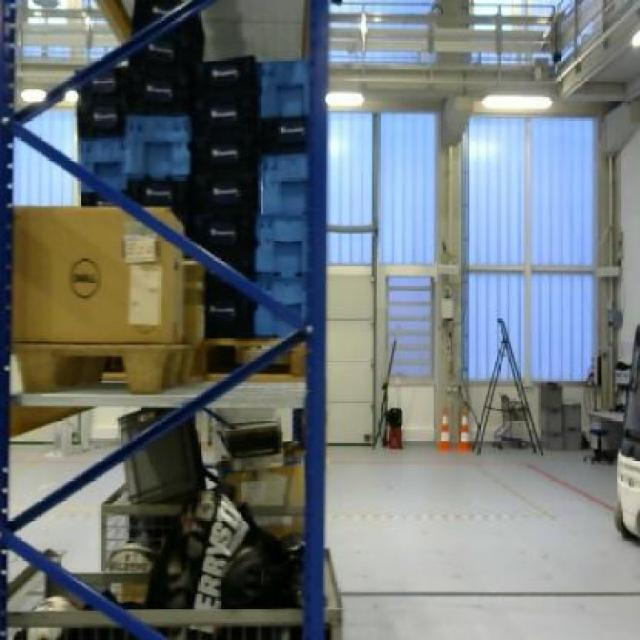box: (11, 206, 184, 345)
